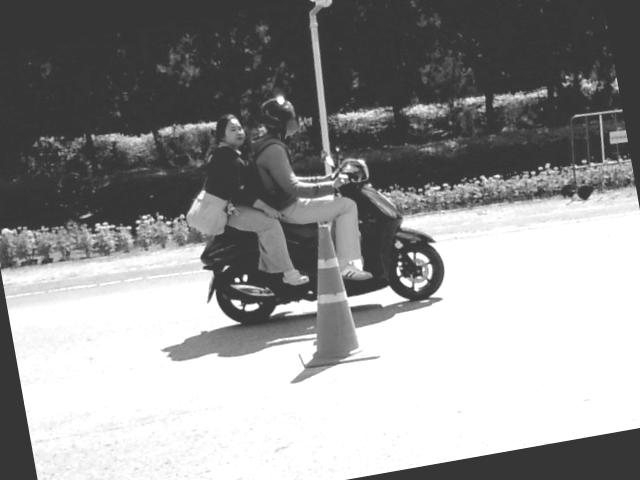helmet: (257, 86, 298, 137)
motor: (334, 160, 443, 299), (200, 222, 316, 321)
no-helmet: (214, 113, 245, 148)
person: (252, 96, 372, 279), (204, 114, 307, 285)
